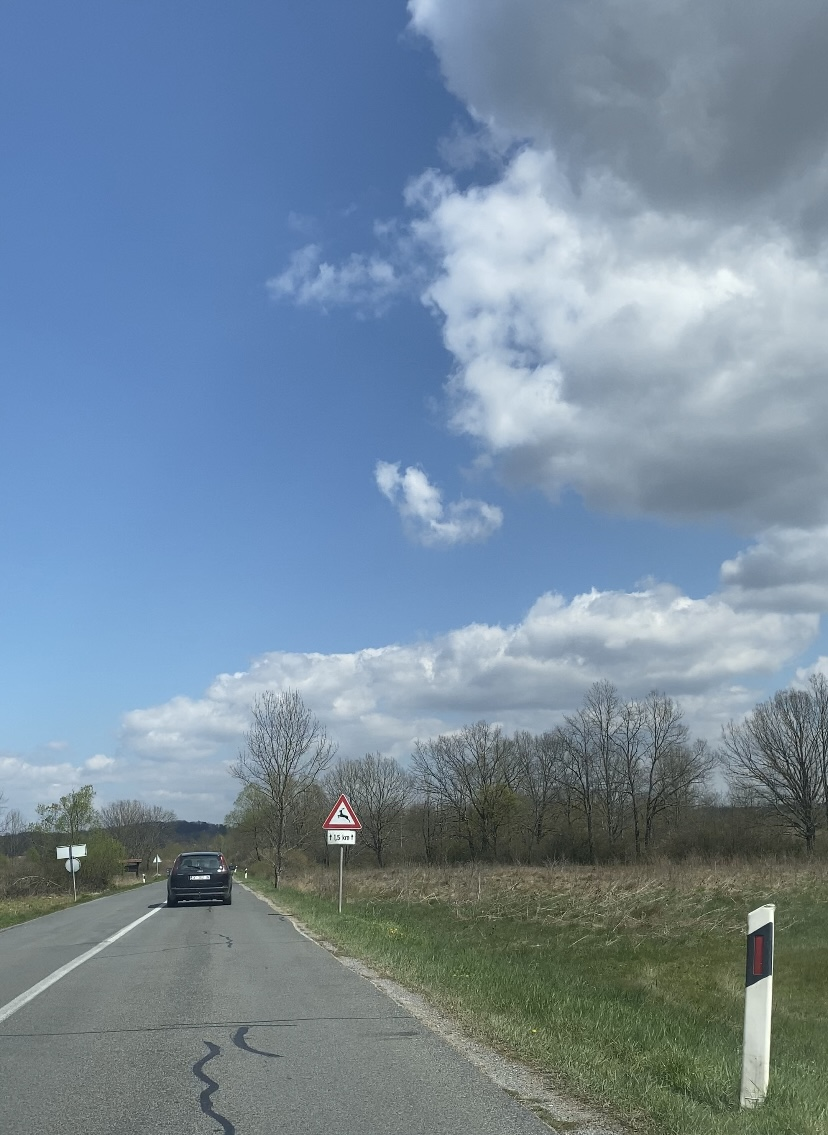Divljač na cesti: (322, 794, 362, 829)
